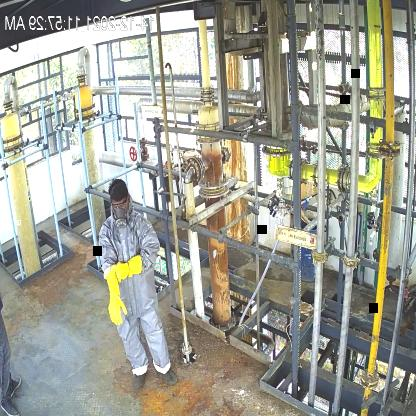goggles: (110, 199, 128, 210)
mask: (112, 206, 128, 229)
